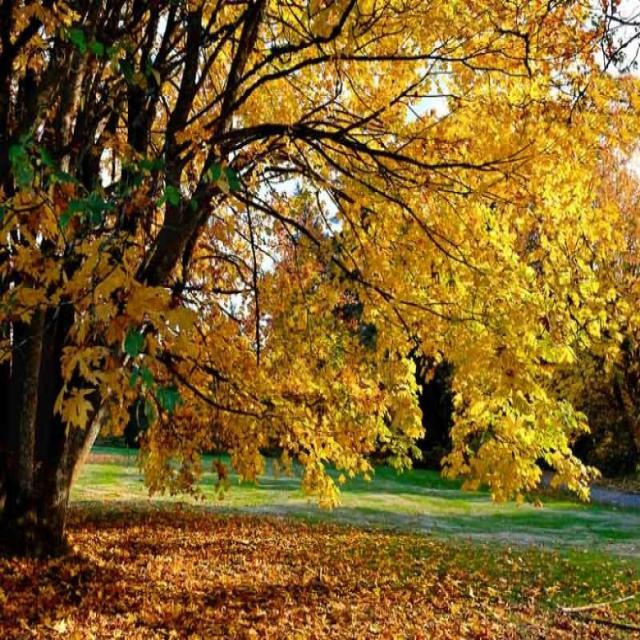Acer macrophyllum: (0, 0, 627, 546)
